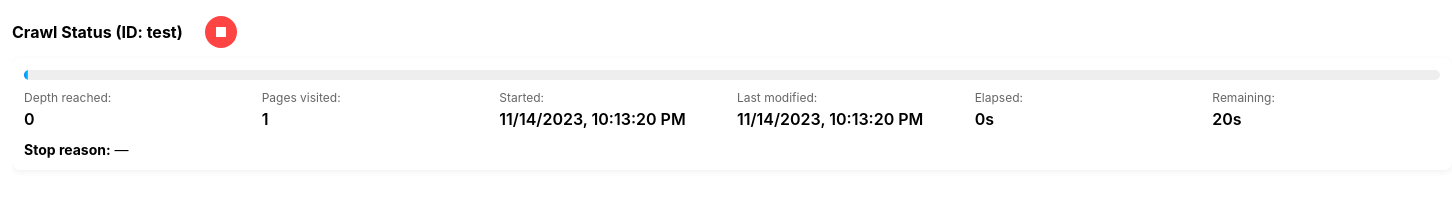
Test: continues polling when the stop request fails
Expected: the text "20s" is shown, 1212,109 -> 1242,129
Click the button named "Stop crawl". click: (221, 32)
box: 205,16 -> 237,48
Wait 2000 ms
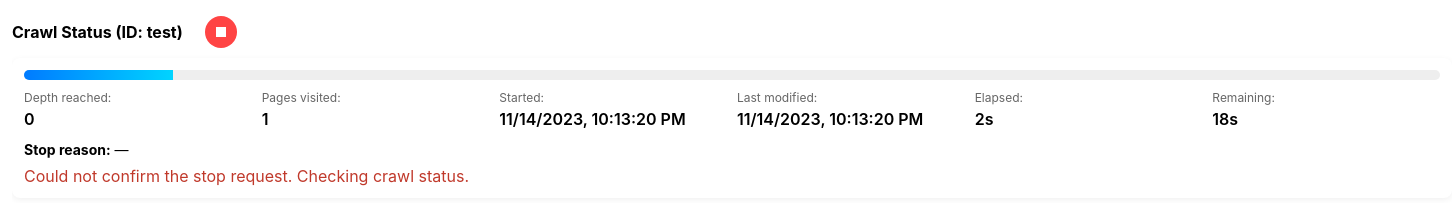
Expected: the text "Could not confirm the stop request. Checking crawl status." is shown, 24,166 -> 469,186
